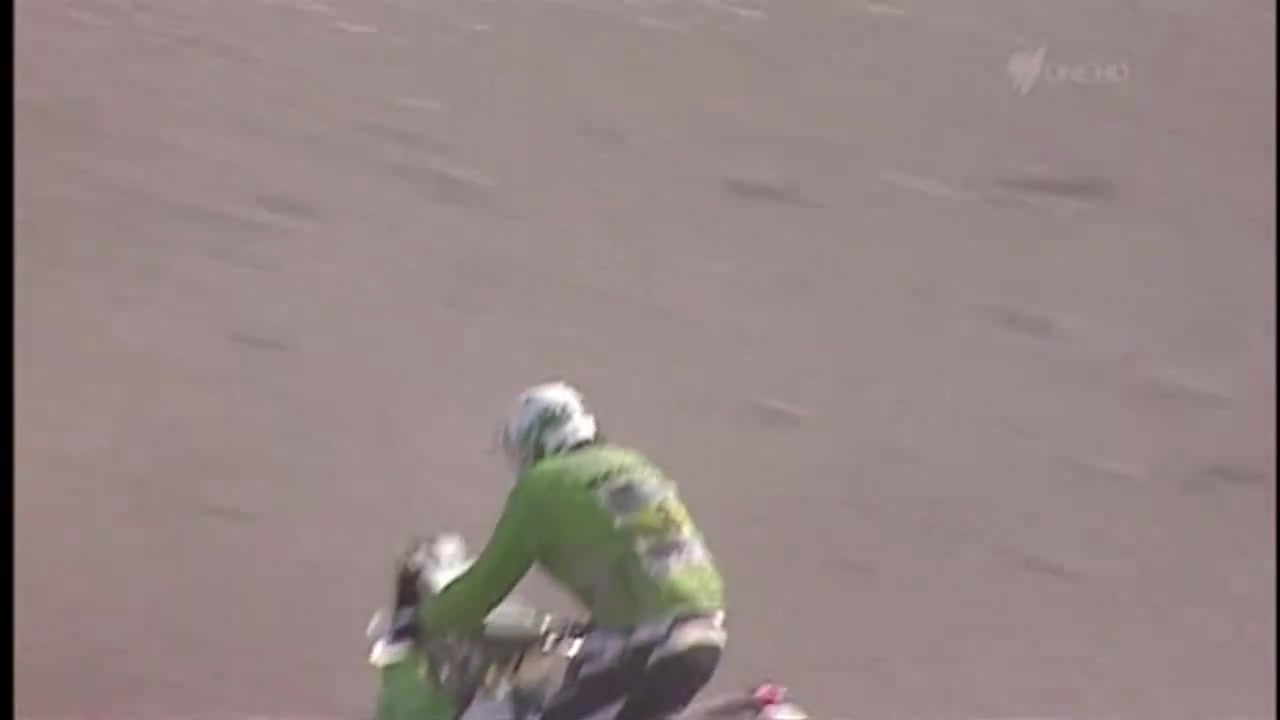motorbike: (364, 528, 804, 720)
